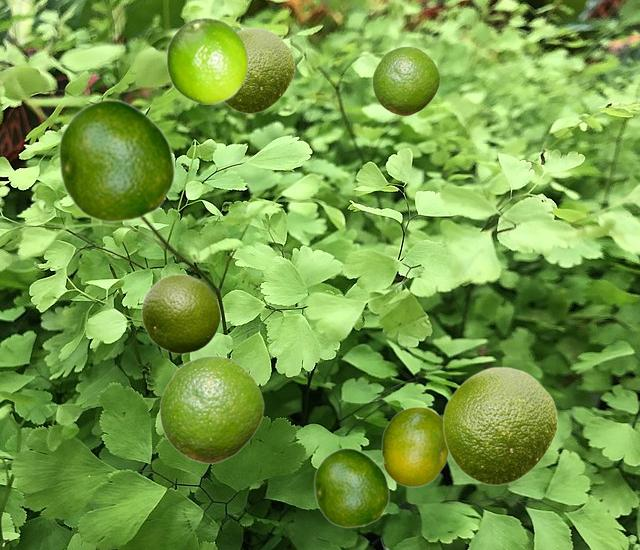calamansi: (57, 98, 175, 222), (442, 366, 557, 485), (159, 355, 263, 463), (166, 17, 248, 103), (141, 273, 220, 353), (313, 447, 389, 527), (225, 27, 294, 113), (374, 406, 448, 486), (372, 46, 439, 115)
